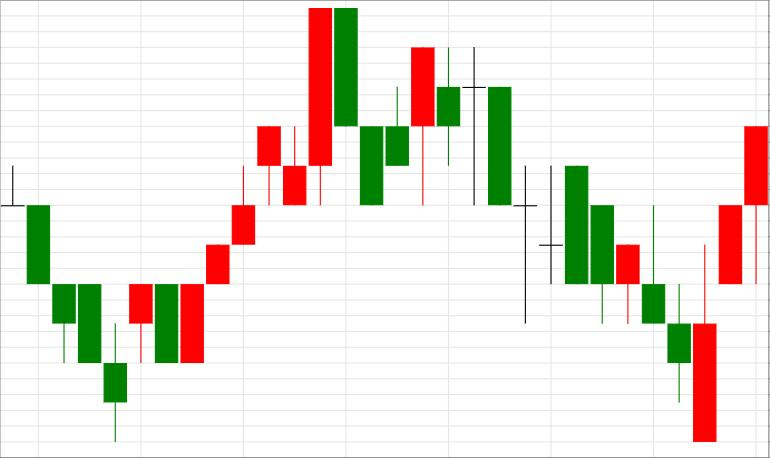three_white_soldiers_rise: (539, 126, 768, 442)
